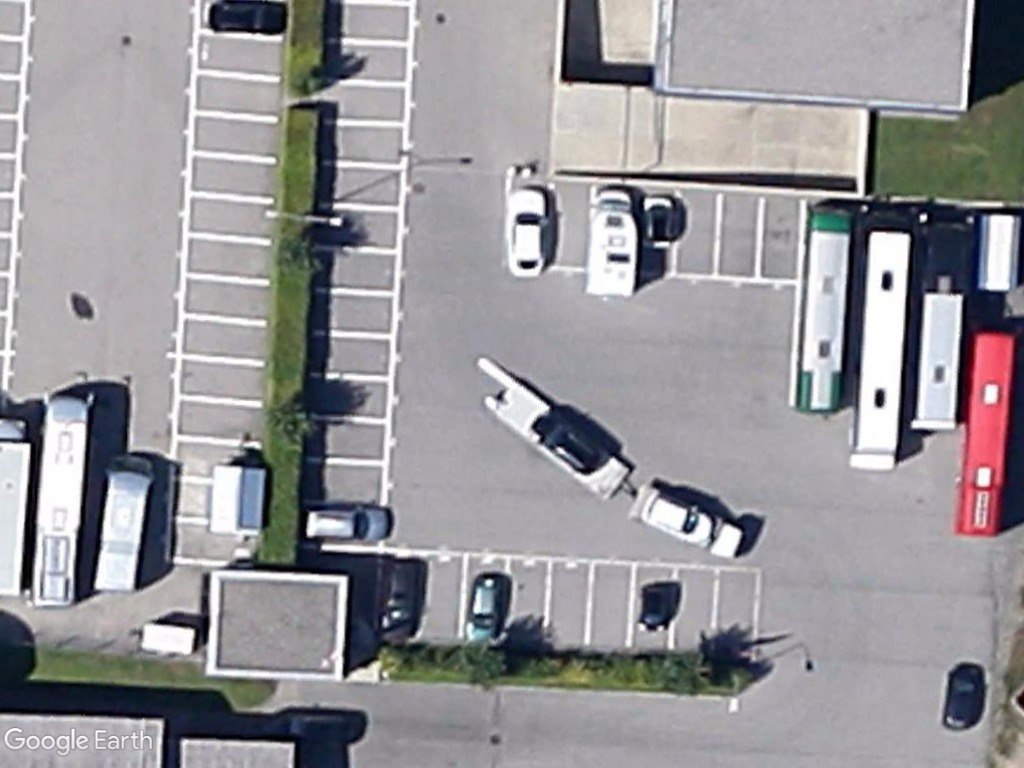bus: (846, 220, 918, 479), (27, 383, 97, 614), (795, 200, 868, 419), (951, 326, 1024, 539)
car: (504, 184, 554, 283), (300, 503, 396, 547), (464, 567, 509, 649)
